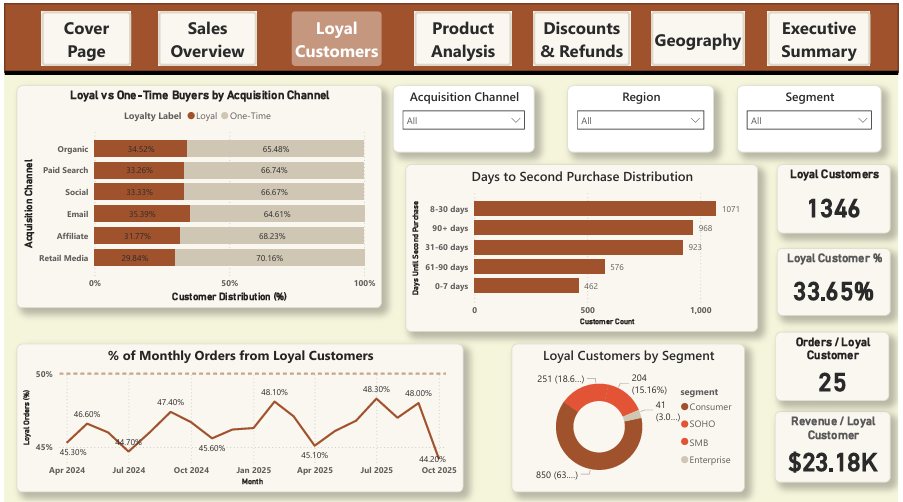

This screenshot's page, from the dashboard's own definition file:
{"tool":"powerbi","page":{"name":"Loyal Customers","canvas":[1280,720],"ordinal":2},"visuals":[{"type":"shape","box":[0,0,1280,98.6],"z":0},{"type":"actionButton","title":"Sales Overview","box":[52.9,11.4,128.6,77.1],"z":1000},{"type":"actionButton","title":"Sales Overview","box":[220,11.4,141.4,77.1],"z":2000},{"type":"actionButton","title":"Sales Overview","box":[587.1,11.4,138.6,77.1],"z":3000},{"type":"actionButton","title":"Sales Overview","box":[757.1,11.4,138.6,77.1],"z":4000},{"type":"actionButton","title":"Sales Overview","box":[925.7,11.4,134.3,77.1],"z":5000},{"type":"actionButton","title":"Sales Overview","box":[1092.9,11.4,147.1,77.1],"z":6000},{"type":"actionButton","title":"Sales Overview","box":[411.4,11.4,128.6,77.1],"z":7000},{"type":"shape","box":[0,81.4,1280,35.7],"z":8000},{"type":"slicer","title":"Acquisition Channel","fields":{"Values":["Customers.acquisition_channel"]},"box":[555.7,117.1,202.9,95.7],"z":9000},{"type":"slicer","title":"Region","fields":{"Values":["Customers.region"]},"box":[805.7,117.1,210,95.7],"z":10000},{"type":"slicer","title":"Segment","fields":{"Values":["Customers.segment"]},"box":[1048.6,117.1,207.1,95.7],"z":11000},{"type":"card","title":"Loyal Customers","fields":{"Values":["_Measures.Loyal Customers"]},"box":[1105.7,230,162.9,98.6],"z":12000},{"type":"card","title":"Loyal Customer %","fields":{"Values":["_Measures.Loyal Customer %"]},"box":[1105.7,350,162.9,97.1],"z":13000},{"type":"card","title":"Revenue / Loyal Customer","fields":{"Values":["_Measures.Revenue per Loyal Customer"]},"box":[1102.9,584.3,165.7,101.4],"z":14000},{"type":"card","title":"Orders / Loyal Customer","fields":{"Values":["_Measures.Orders per Loyal Customer"]},"box":[1104.3,470,162.9,98.6],"z":15000},{"type":"hundredPercentStackedBarChart","title":"Loyal vs One-Time Buyers by Acquisition Channel","fields":{"Category":["Customers.acquisition_channel"],"Y":["_Measures.Total Customers"],"Series":["loyal_customers.loyalty_label"]},"box":[17.1,117.1,522.9,318.6],"z":16000},{"type":"donutChart","title":"Loyal Customers by Segment","fields":{"Category":["Customers.segment"],"Y":["_Measures.Loyal Customers"]},"box":[725.7,487.1,334.3,212.9],"z":17000},{"type":"clusteredBarChart","title":"Days to Second Purchase Distribution","fields":{"Category":["loyal_customers.days_bin"],"Y":["CountNonNull(Customers.customer_id)"]},"box":[574.3,230,504.3,240],"z":18000},{"type":"lineChart","title":"% of Monthly Orders from Loyal Customers","fields":{"Y":["monthly_summary.Loyal Order %"],"Category":["monthly_summary.year_month.Variation.Date Hierarchy.Year","monthly_summary.year_month.Variation.Date Hierarchy.Quarter","monthly_summary.year_month.Variation.Date Hierarchy.Month","monthly_summary.year_month.Variation.Date Hierarchy.Day"]},"box":[17.1,487.1,640,212.9],"z":19000}]}

Visuals, with their boxes in screenshot pixels (x1, y1, x2, y2), scaled from the page's 1280x720 canvas onto the 903x502 screenshot:
shape: <box>0,0,902,69</box>
"Sales Overview" actionButton: <box>37,8,128,62</box>
"Sales Overview" actionButton: <box>155,8,255,62</box>
"Sales Overview" actionButton: <box>414,8,512,62</box>
"Sales Overview" actionButton: <box>534,8,632,62</box>
"Sales Overview" actionButton: <box>653,8,748,62</box>
"Sales Overview" actionButton: <box>771,8,875,62</box>
"Sales Overview" actionButton: <box>290,8,381,62</box>
shape: <box>0,57,902,82</box>
"Acquisition Channel" slicer: <box>392,82,535,148</box>
"Region" slicer: <box>568,82,717,148</box>
"Segment" slicer: <box>740,82,886,148</box>
"Loyal Customers" card: <box>780,160,895,229</box>
"Loyal Customer %" card: <box>780,244,895,312</box>
"Revenue / Loyal Customer" card: <box>778,407,895,478</box>
"Orders / Loyal Customer" card: <box>779,328,894,396</box>
"Loyal vs One-Time Buyers by Acquisition Channel" hundredPercentStackedBarChart: <box>12,82,381,304</box>
"Loyal Customers by Segment" donutChart: <box>512,340,748,488</box>
"Days to Second Purchase Distribution" clusteredBarChart: <box>405,160,761,328</box>
"% of Monthly Orders from Loyal Customers" lineChart: <box>12,340,464,488</box>
